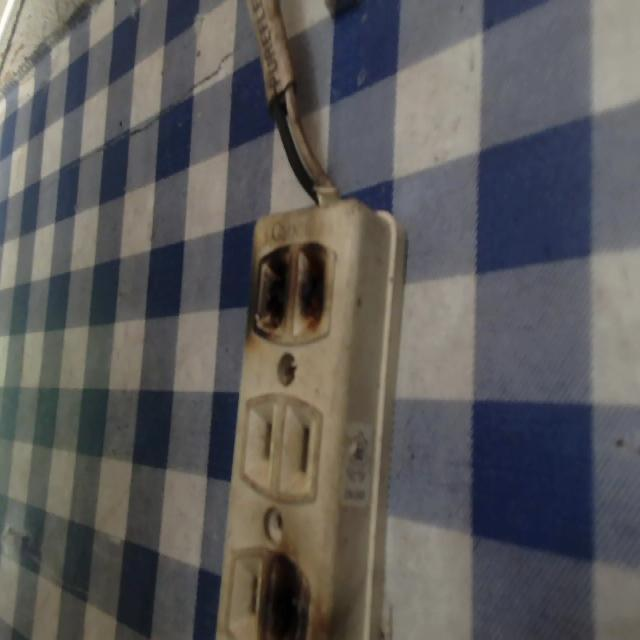-: (242, 231, 340, 352), (252, 538, 328, 638)
